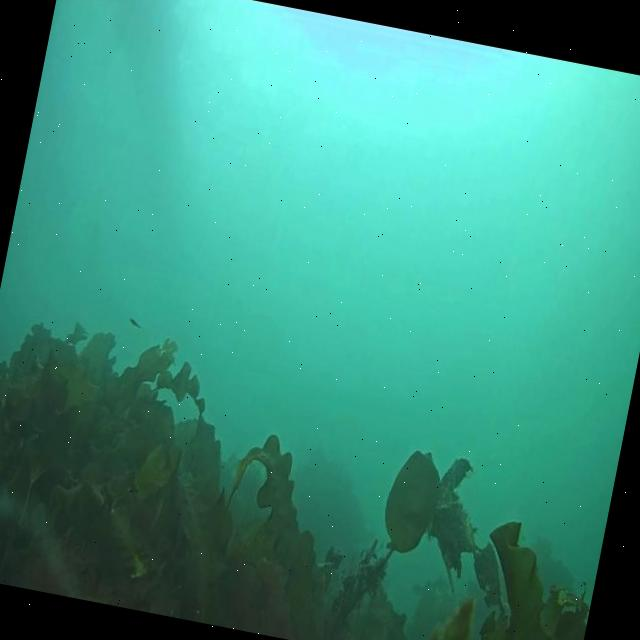fish: (130, 318, 144, 330)
